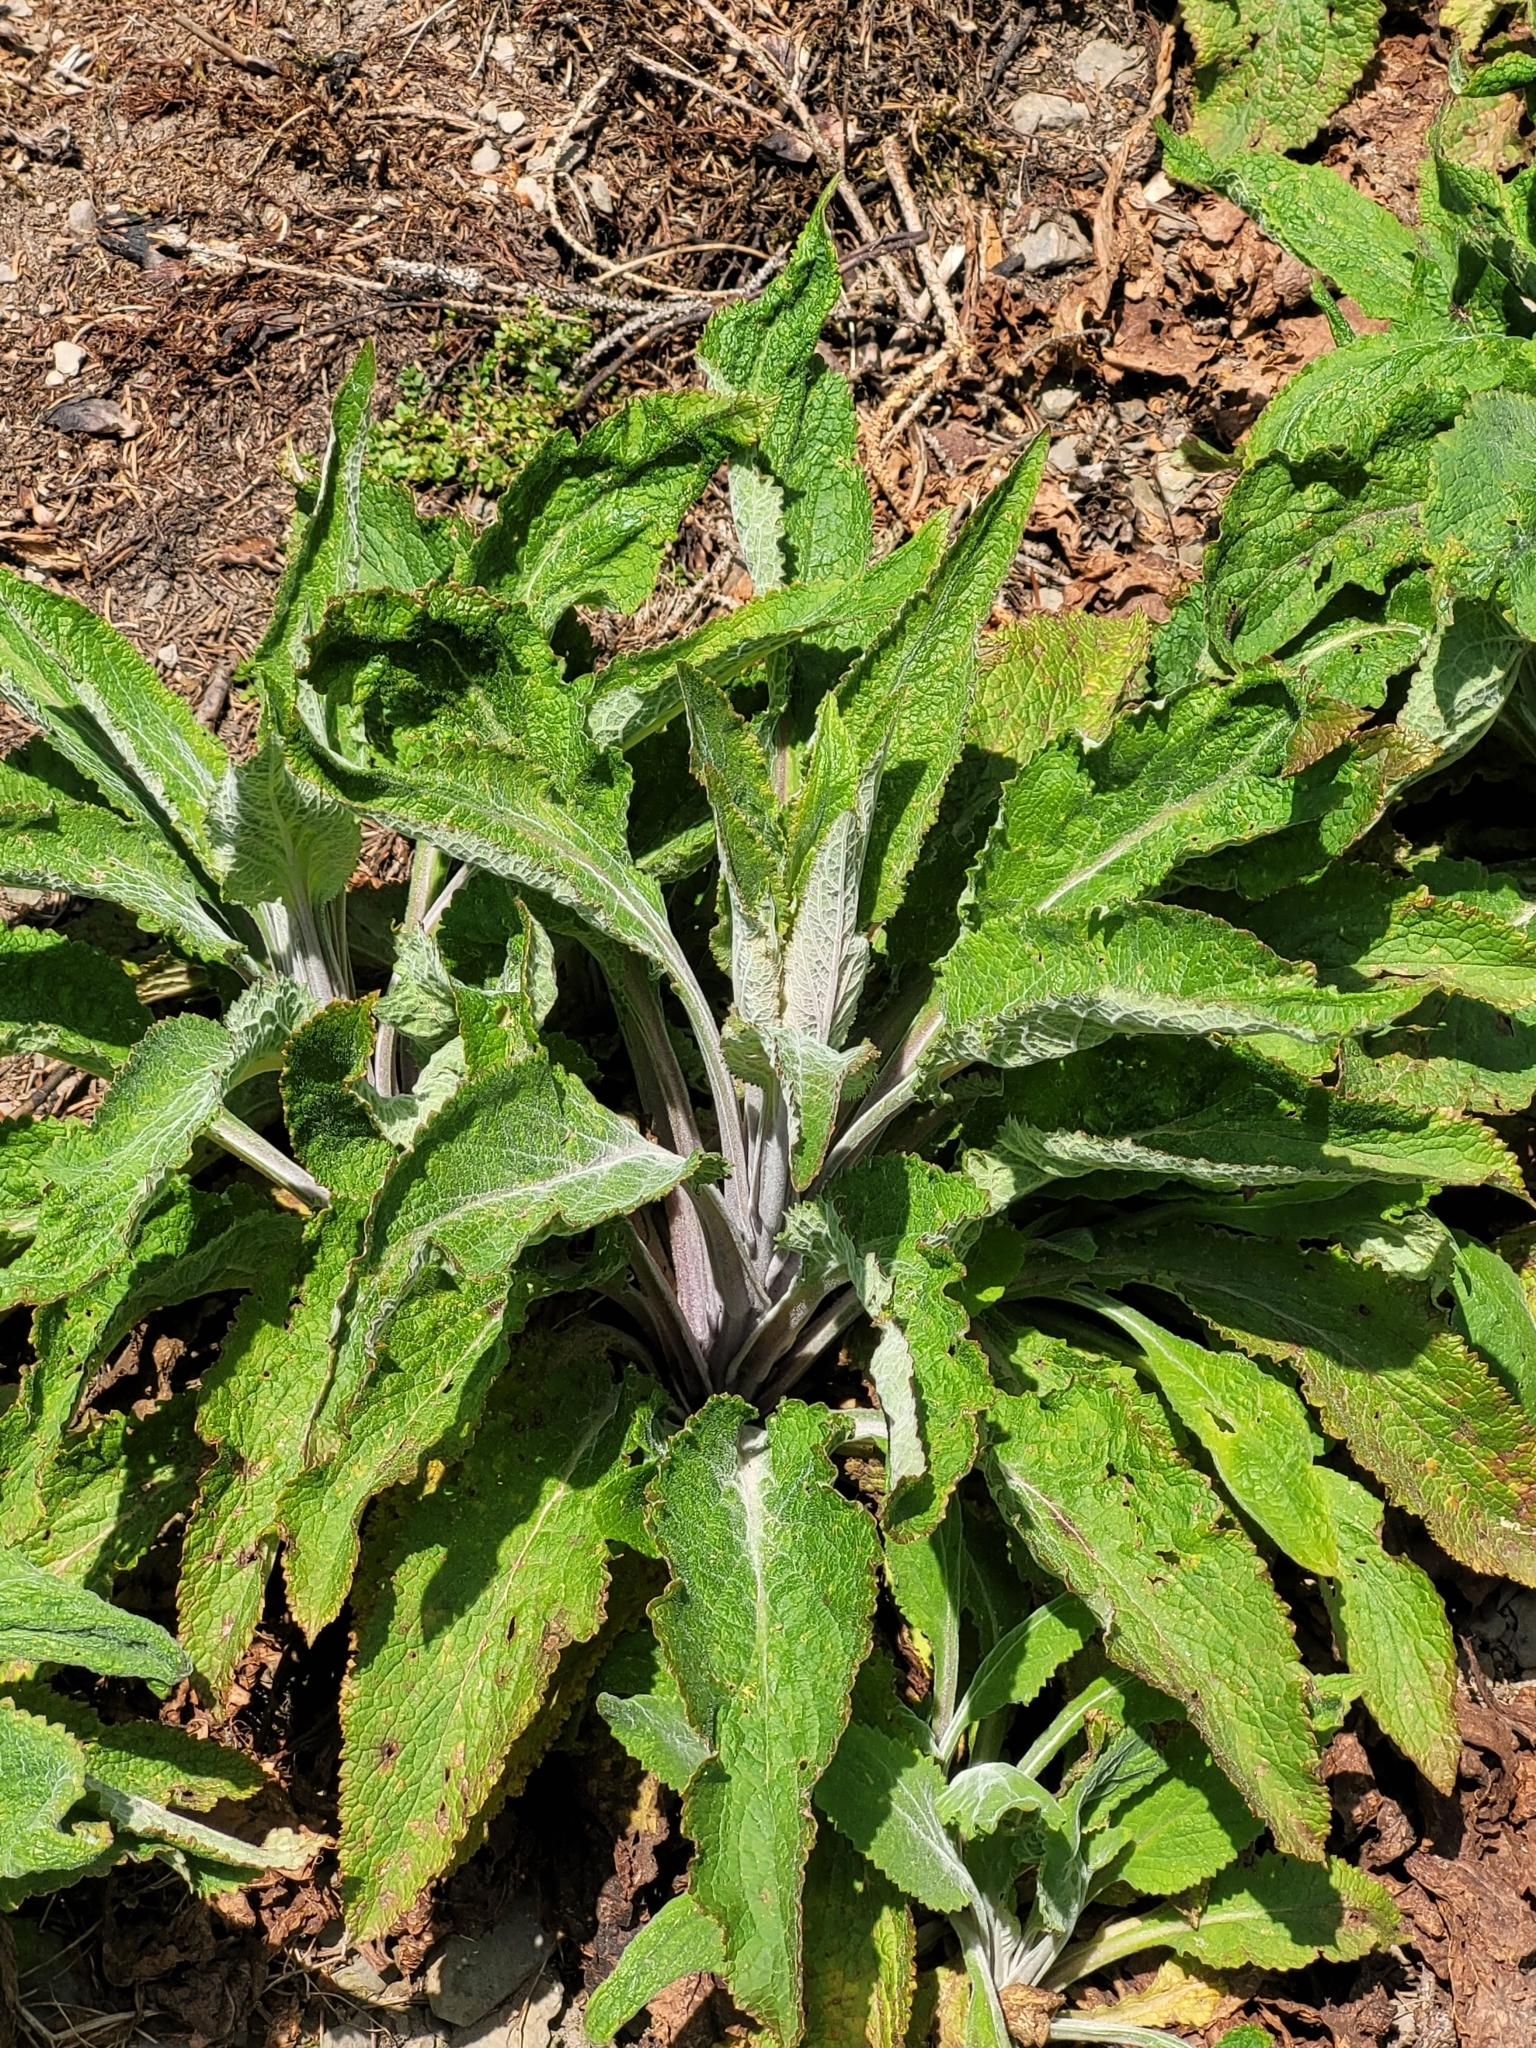Digitalis L: (10, 239, 1534, 2013)
